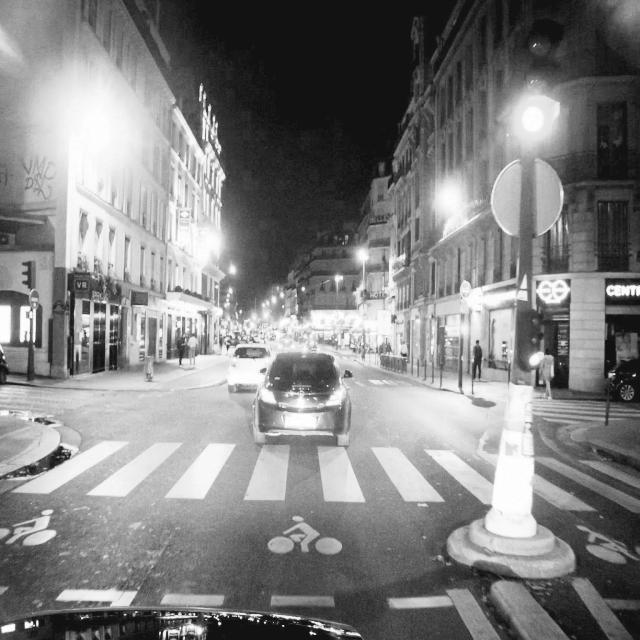Car: (252, 350, 350, 442)
Light: (520, 18, 564, 144), (527, 312, 545, 367), (22, 262, 30, 288)
Sign: (491, 157, 565, 237)
